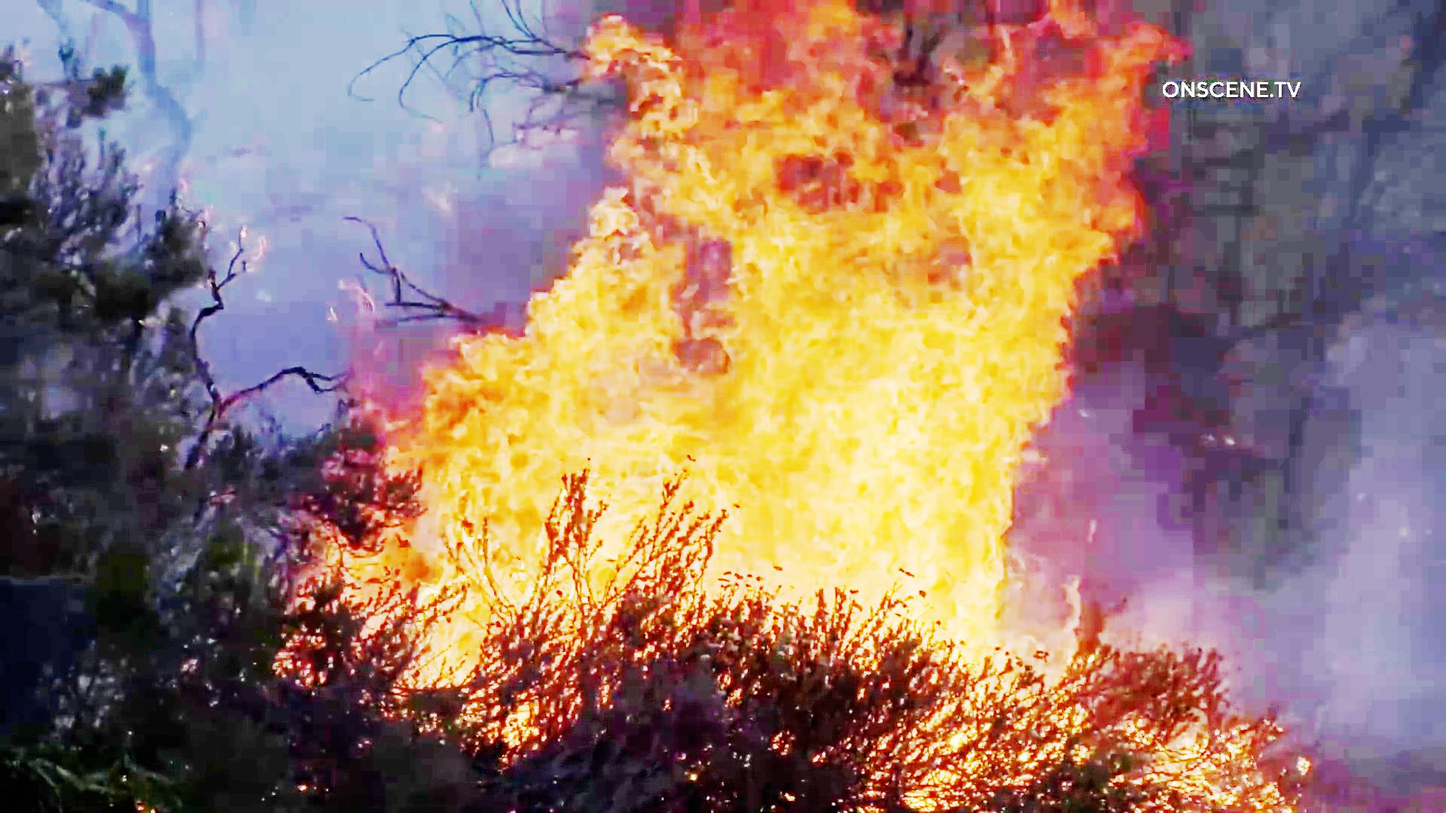fire: (379, 12, 1096, 684)
